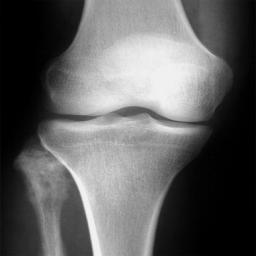cancer: (17, 150, 74, 256)
